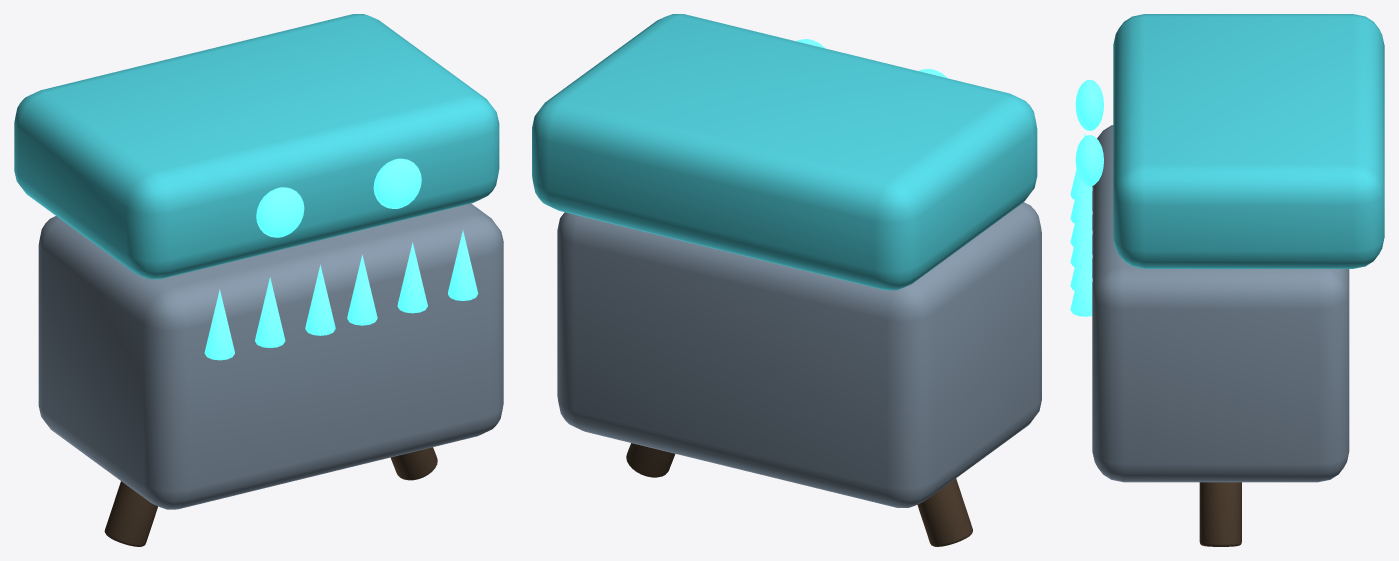
Rendered from mimic_v2.glb.
The picture shows the model from 3 angles, left to right: view 1: azimuth 30°, elevation 25°; view 2: azimuth 150°, elevation 25°; view 3: azimuth 270°, elevation 25°; orthographic projection. The views are drawn at different scales.
Visible parts, largest first — view 1: COFFER_BODY_PRIMARY, HINGED_LID_ACCENT, COFFER_LEG_SECONDARY, EYE_EMISSIVE, EYE_EMISSIVE.001, COFFER_TOOTH_EMISSIVE, COFFER_TOOTH_EMISSIVE.001, COFFER_TOOTH_EMISSIVE.002, COFFER_TOOTH_EMISSIVE.004, COFFER_TOOTH_EMISSIVE.003, COFFER_TOOTH_EMISSIVE.005, COFFER_LEG_SECONDARY.001; view 2: COFFER_BODY_PRIMARY, HINGED_LID_ACCENT, COFFER_LEG_SECONDARY, COFFER_LEG_SECONDARY.001; view 3: HINGED_LID_ACCENT, COFFER_BODY_PRIMARY, COFFER_LEG_SECONDARY.001, EYE_EMISSIVE, EYE_EMISSIVE.001, COFFER_TOOTH_EMISSIVE.005, COFFER_TOOTH_EMISSIVE.004, COFFER_TOOTH_EMISSIVE.003, COFFER_TOOTH_EMISSIVE.002.
Part boxes in pixels (x1,y1,x2,y2): COFFER_BODY_PRIMARY: (38, 203, 503, 509); HINGED_LID_ACCENT: (14, 14, 499, 279); COFFER_LEG_SECONDARY: (104, 481, 157, 546); EYE_EMISSIVE: (256, 187, 304, 237); EYE_EMISSIVE.001: (373, 158, 421, 208); COFFER_TOOTH_EMISSIVE: (204, 289, 234, 360); COFFER_TOOTH_EMISSIVE.001: (255, 277, 285, 347); COFFER_TOOTH_EMISSIVE.002: (305, 264, 335, 335); COFFER_TOOTH_EMISSIVE.004: (397, 242, 427, 313); COFFER_TOOTH_EMISSIVE.003: (347, 255, 377, 325); COFFER_TOOTH_EMISSIVE.005: (448, 230, 478, 300); COFFER_LEG_SECONDARY.001: (390, 447, 437, 480); COFFER_BODY_PRIMARY: (557, 202, 1041, 507); HINGED_LID_ACCENT: (532, 14, 1037, 290); COFFER_LEG_SECONDARY: (917, 478, 972, 546); COFFER_LEG_SECONDARY.001: (626, 443, 675, 477); HINGED_LID_ACCENT: (1113, 14, 1384, 268); COFFER_BODY_PRIMARY: (1092, 125, 1349, 482); COFFER_LEG_SECONDARY.001: (1199, 482, 1241, 546); EYE_EMISSIVE: (1075, 79, 1103, 130); EYE_EMISSIVE.001: (1075, 135, 1103, 186); COFFER_TOOTH_EMISSIVE.005: (1070, 248, 1092, 316); COFFER_TOOTH_EMISSIVE.004: (1070, 224, 1092, 290); COFFER_TOOTH_EMISSIVE.003: (1070, 200, 1092, 266); COFFER_TOOTH_EMISSIVE.002: (1070, 184, 1092, 246).
Bounding box in the file's own units: 1.44 × 1.51 × 1.1.
